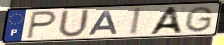A: (146, 6, 185, 36), (87, 10, 120, 36)
G: (183, 6, 215, 33)
I: (128, 7, 144, 37)
P: (25, 10, 59, 40)
U: (56, 8, 92, 39)
